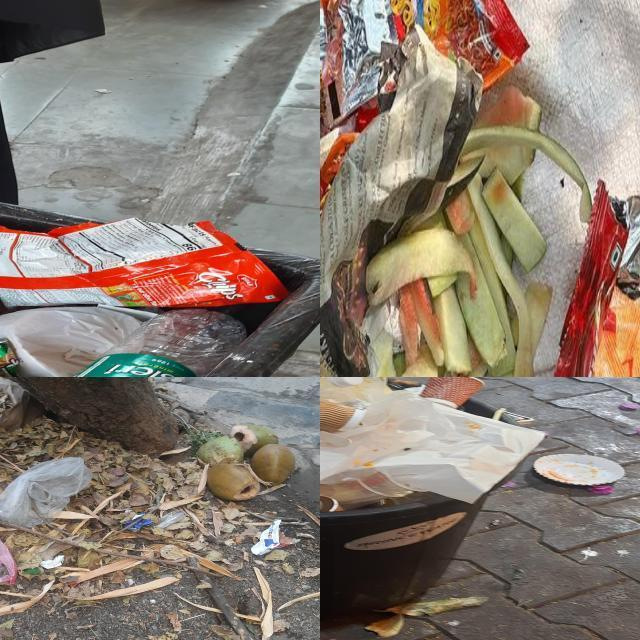Disposable: (320, 469, 414, 507)
Garbage: (320, 0, 640, 377), (0, 377, 296, 601), (0, 219, 287, 377), (320, 377, 544, 511)
Plastic_Bag: (0, 306, 154, 377), (357, 391, 482, 450), (0, 457, 93, 528), (0, 539, 16, 584), (157, 509, 189, 529)
Plastic_Straw: (493, 408, 507, 420)
Plastic_bottle: (75, 309, 245, 377)
Plastic_wraper: (320, 0, 527, 135), (0, 217, 287, 307), (554, 183, 640, 377), (0, 337, 19, 377), (122, 513, 152, 532)
